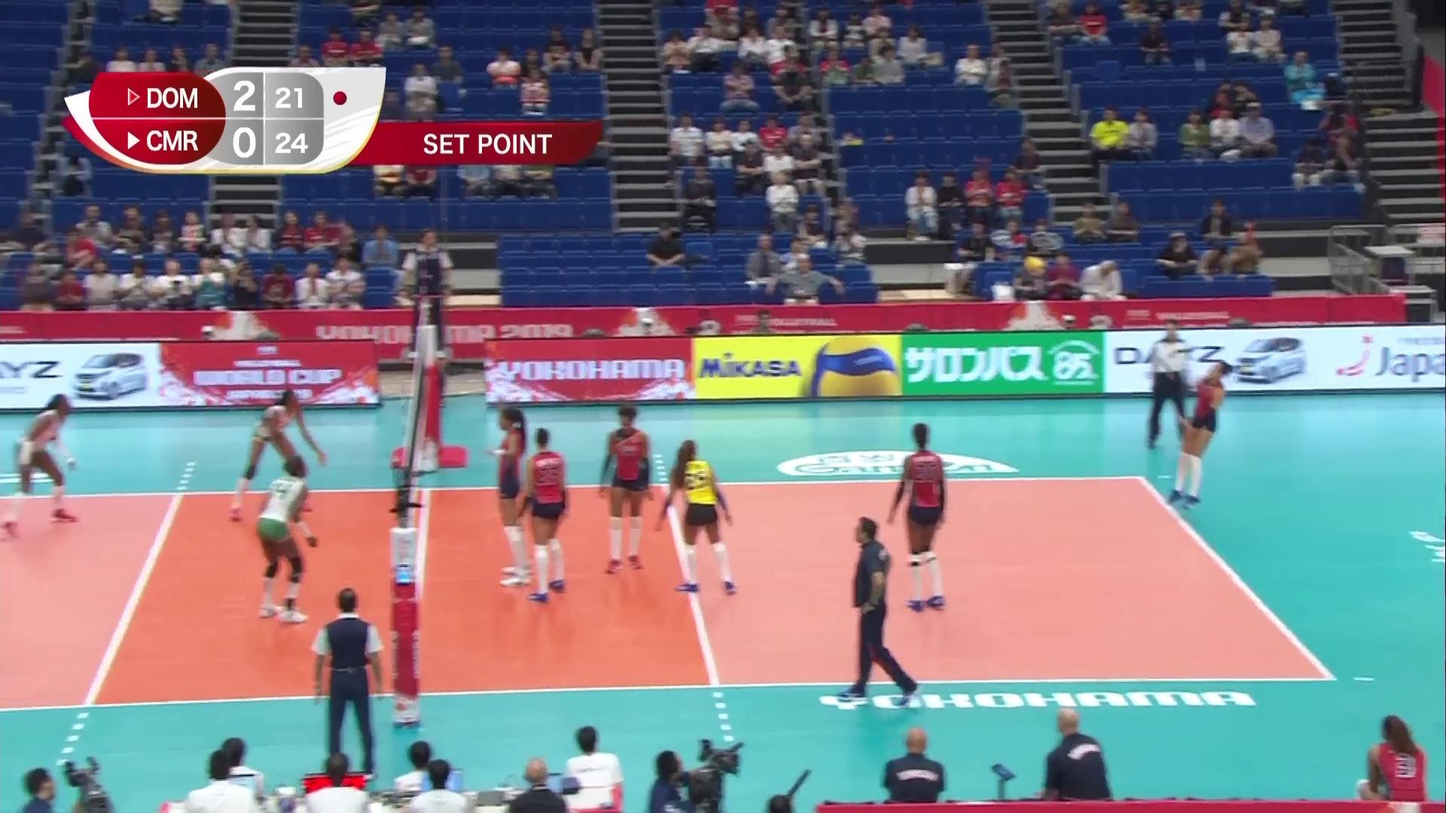player: (230, 389, 329, 522), (892, 427, 959, 616), (657, 444, 735, 594), (597, 405, 662, 583), (255, 459, 322, 623), (4, 396, 78, 538), (521, 425, 577, 603), (1174, 359, 1232, 511), (488, 406, 536, 585)
refree: (311, 595, 387, 754), (1148, 319, 1191, 453), (407, 225, 449, 359)
